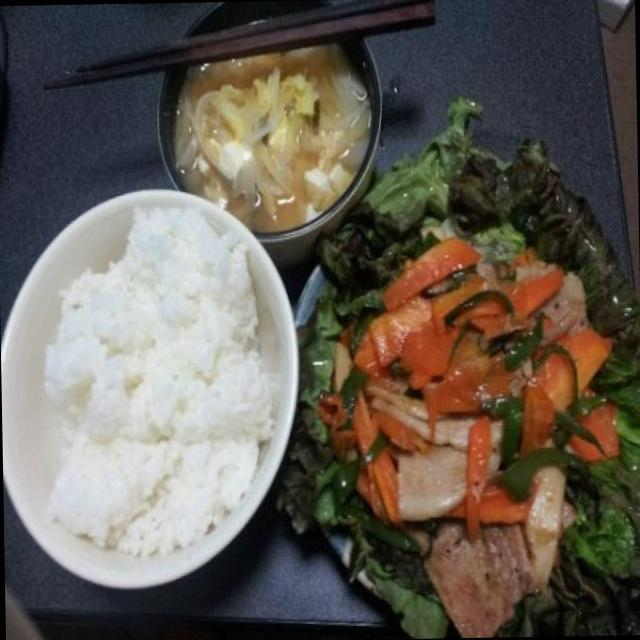Rice: (43, 197, 284, 548)
